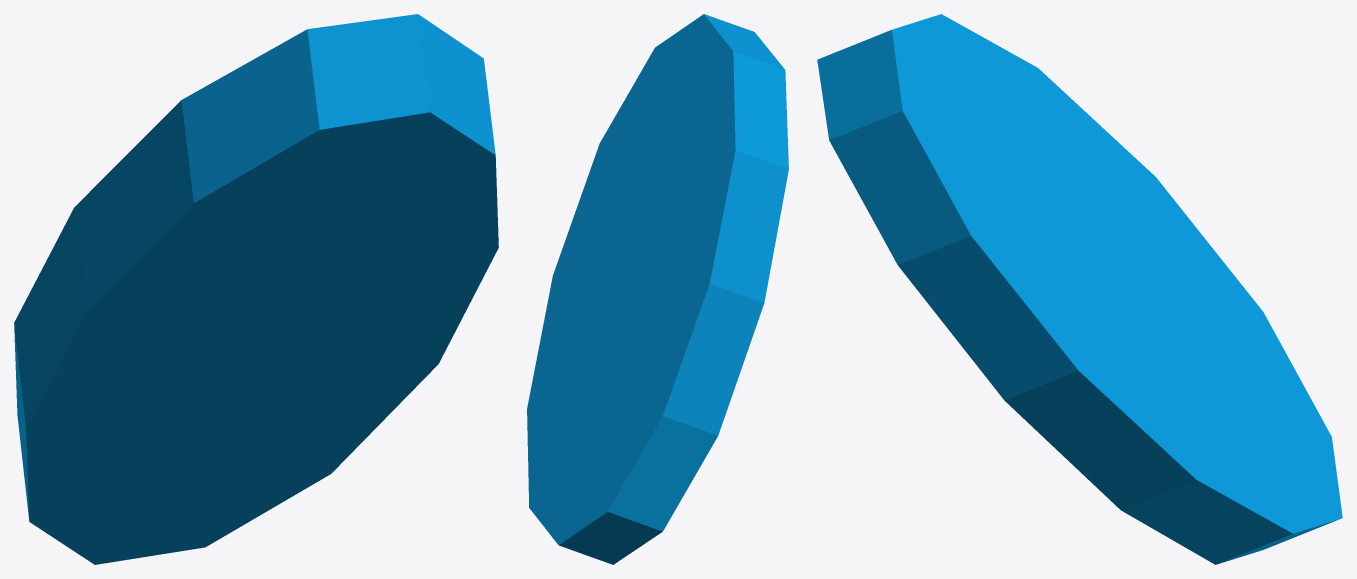
The model's file is astronaut_base_group255140077_lev4.glb.
The picture shows the model from 3 angles, left to right: view 1: azimuth 30°, elevation 25°; view 2: azimuth 150°, elevation 25°; view 3: azimuth 270°, elevation 25°; orthographic projection. The views are drawn at different scales.
Visible parts, largest first — view 1: astronaut_base_group255140077_lev4; view 2: astronaut_base_group255140077_lev4; view 3: astronaut_base_group255140077_lev4.
Boxes of the visible parts, <box> form: astronaut_base_group255140077_lev4: <box>14,14,498,564</box>; astronaut_base_group255140077_lev4: <box>527,14,788,564</box>; astronaut_base_group255140077_lev4: <box>817,14,1342,564</box>.
Size of the model in its own units: 0.1213 by 0.2376 by 0.2043.
